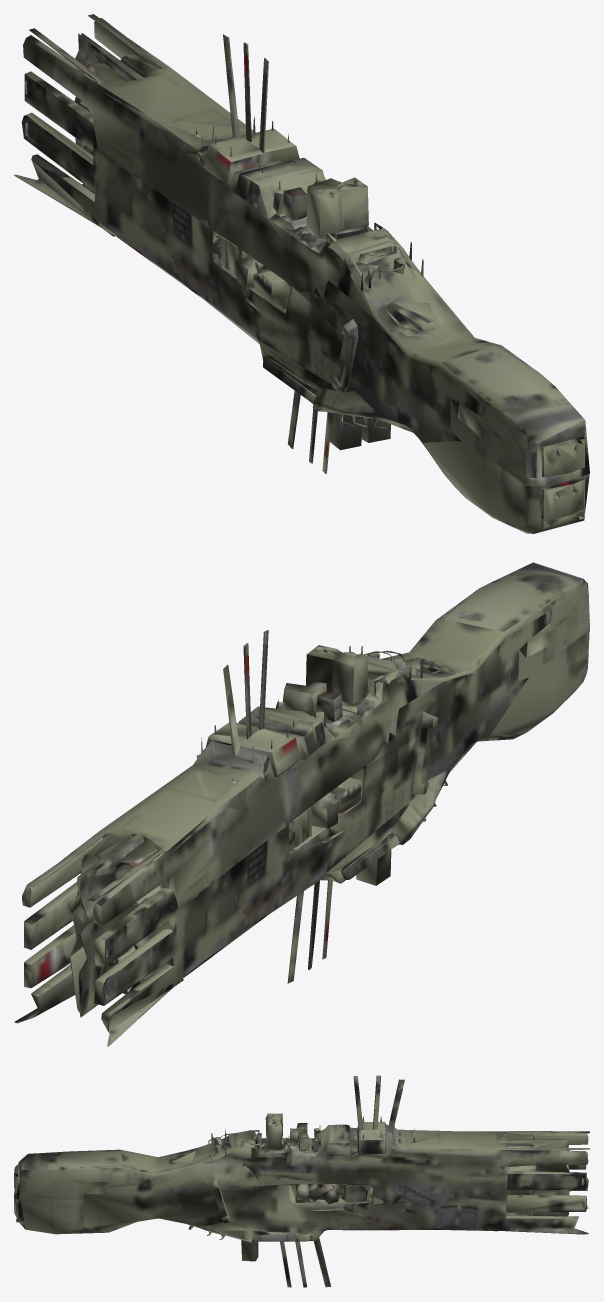
The model's file is alliance_battleship.lod2.glb.
3 views of the same model, one above another, from view 1: azimuth 30°, elevation 25°; view 2: azimuth 150°, elevation 25°; view 3: azimuth 270°, elevation 25° (orthographic). The views are drawn at different scales.
Visible parts, largest first — view 1: convert; view 2: convert; view 3: convert.
Part boxes in pixels (left/top/right/bottom): convert: left=14, top=14, right=589, bottom=533; convert: left=14, top=562, right=589, bottom=1046; convert: left=14, top=1075, right=589, bottom=1287.
Size of the model in its own units: 0.1296 by 0.4795 by 1.18.
1 material, 1 textured.
